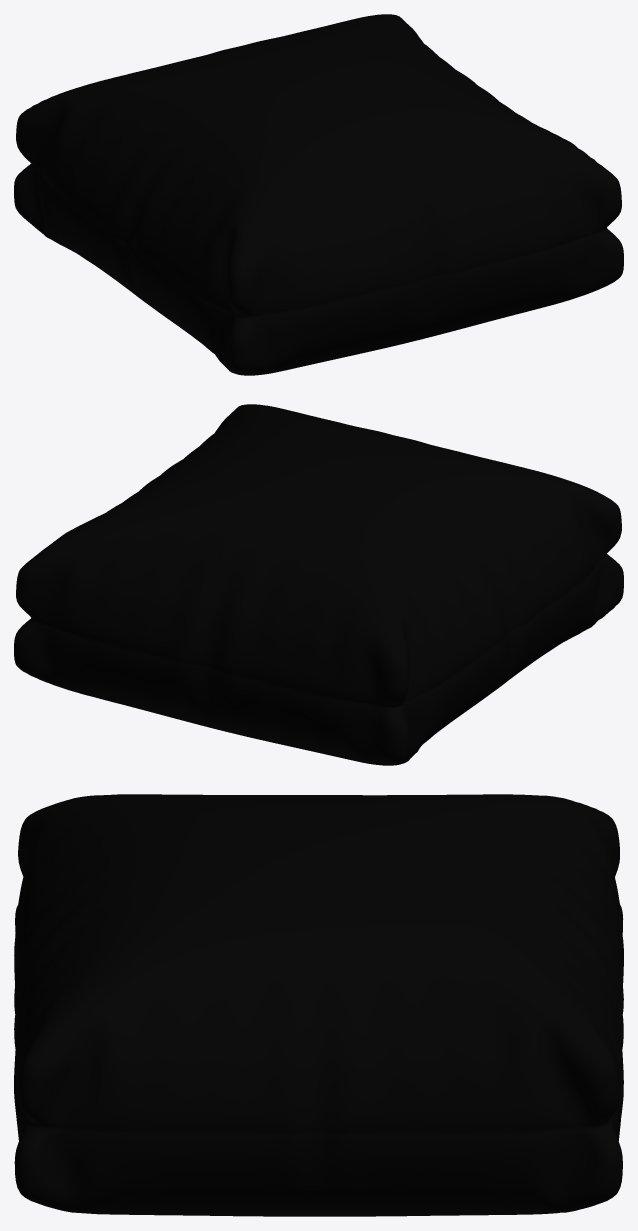
Rendered from Pillow.gltf.
3 renders of one model, top to bottom at view 1: azimuth 30°, elevation 25°; view 2: azimuth 150°, elevation 25°; view 3: azimuth 270°, elevation 25°, orthographic. The views are drawn at different scales.
Visible parts, largest first — view 1: applied_copy; view 2: applied_copy; view 3: applied_copy.
Boxes of the visible parts, x1,y1,x2,y2 form: applied_copy: [14, 14, 623, 375]; applied_copy: [14, 404, 623, 765]; applied_copy: [14, 794, 623, 1216].
Size of the model in its own units: 1.94 by 1 by 1.95.
Materials: 1 (1 with a texture image).
